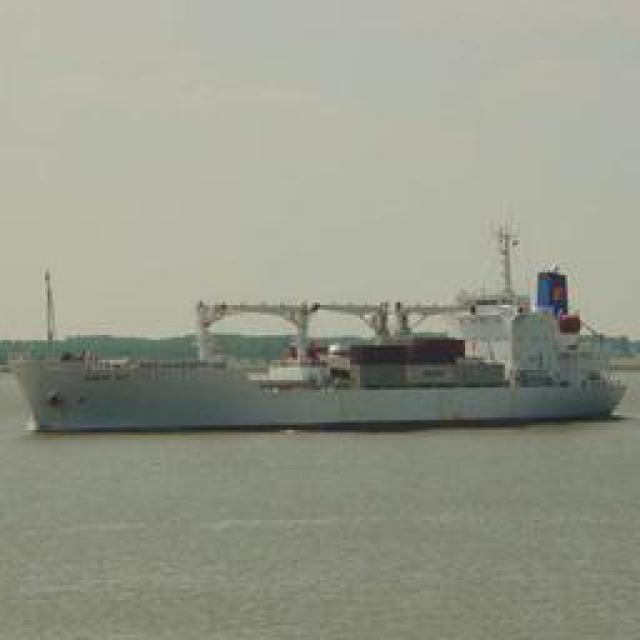Ship: (7, 295, 635, 440)
